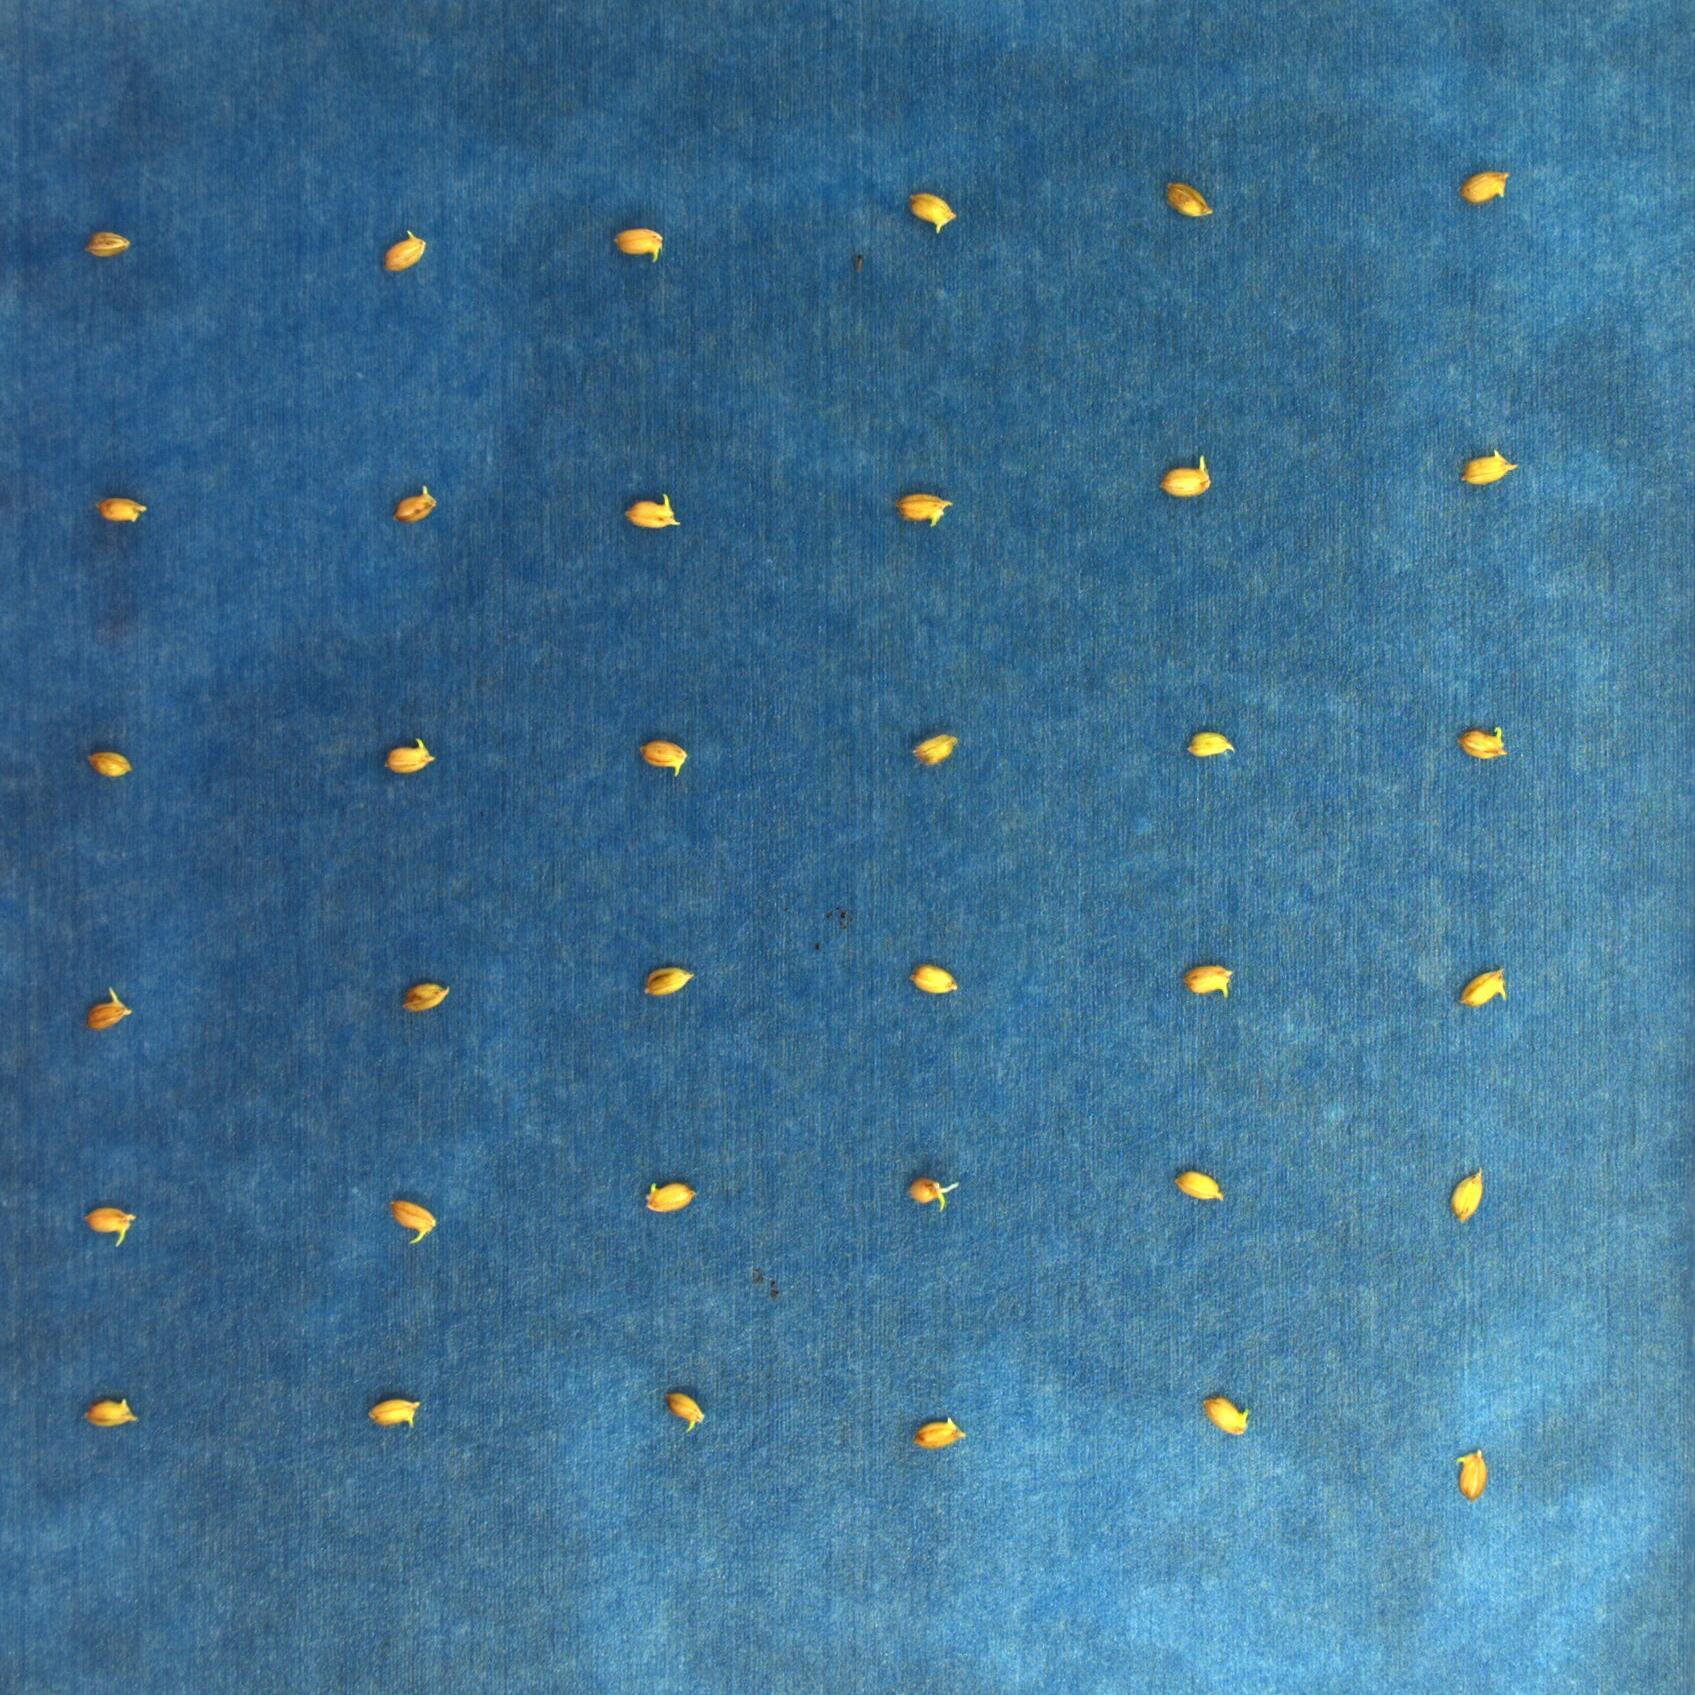not sprout: (1201, 1392, 1254, 1440), (1158, 453, 1211, 500), (1465, 447, 1523, 487), (85, 986, 133, 1034), (646, 1177, 698, 1220), (905, 189, 959, 231), (1448, 1166, 1485, 1226), (385, 227, 428, 278), (1159, 179, 1212, 219), (393, 481, 438, 528), (1461, 965, 1510, 1007), (914, 1416, 970, 1453), (911, 733, 962, 773), (621, 494, 678, 529), (612, 227, 664, 265), (906, 1173, 959, 1212), (82, 1394, 144, 1426), (85, 1205, 133, 1246), (1459, 168, 1510, 206), (640, 740, 691, 778), (896, 494, 950, 528), (1459, 723, 1509, 761), (393, 1200, 433, 1245), (368, 1399, 424, 1430), (383, 737, 432, 773), (400, 981, 450, 1015), (1181, 965, 1234, 997), (666, 1391, 706, 1431), (644, 965, 698, 995), (1184, 731, 1237, 761), (1177, 1170, 1228, 1200), (95, 497, 147, 525), (1461, 1447, 1487, 1503), (85, 227, 132, 258), (85, 751, 137, 778), (910, 965, 958, 992)
